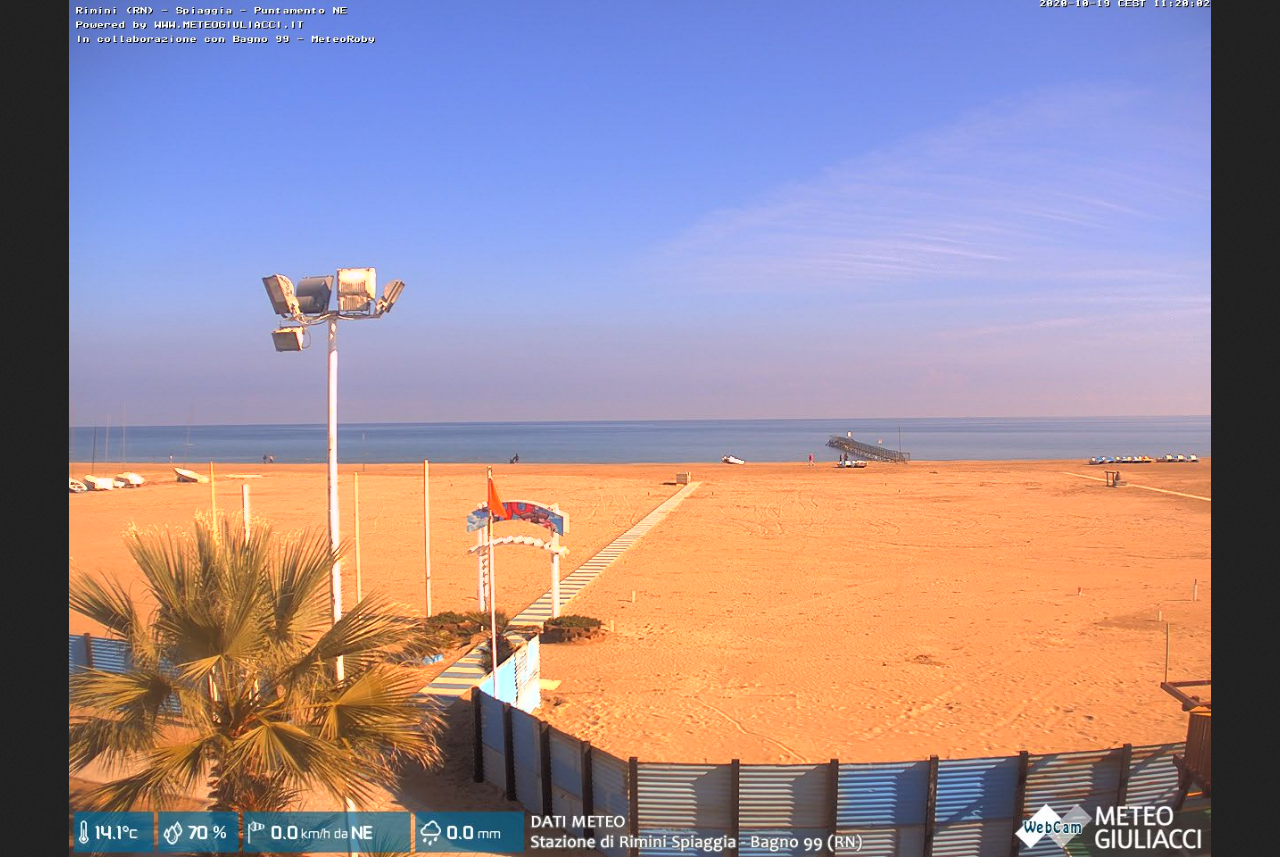no: (486, 474, 508, 525)
